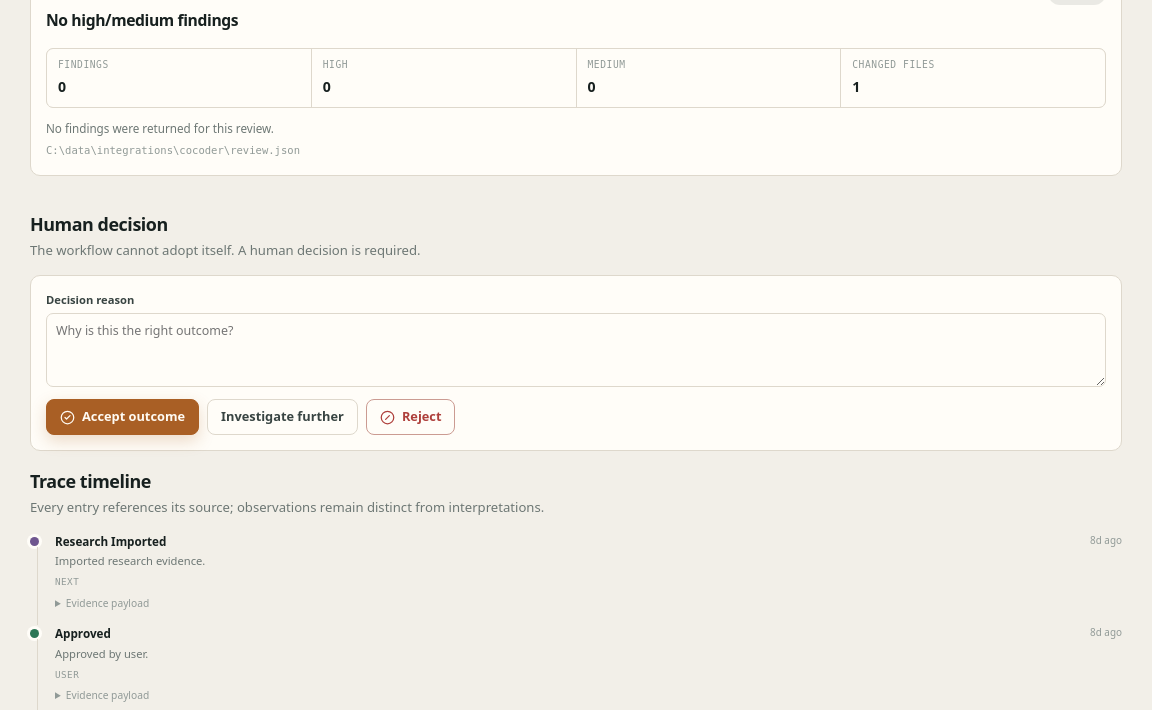
Test: WorkflowDetailPage › shows the full trace and records a human accept decision
The width and height of the screenshot is (1152, 710).
(page scrolled)
Expected: the heading "No high/medium findings" is shown, [46,11,238,30]
Expected: the text "Research Imported" is shown, [55,532,166,551]
Type "Proxy passed." into the text box labelled "Decision reason" at (576, 350), box [46,313,1106,387]
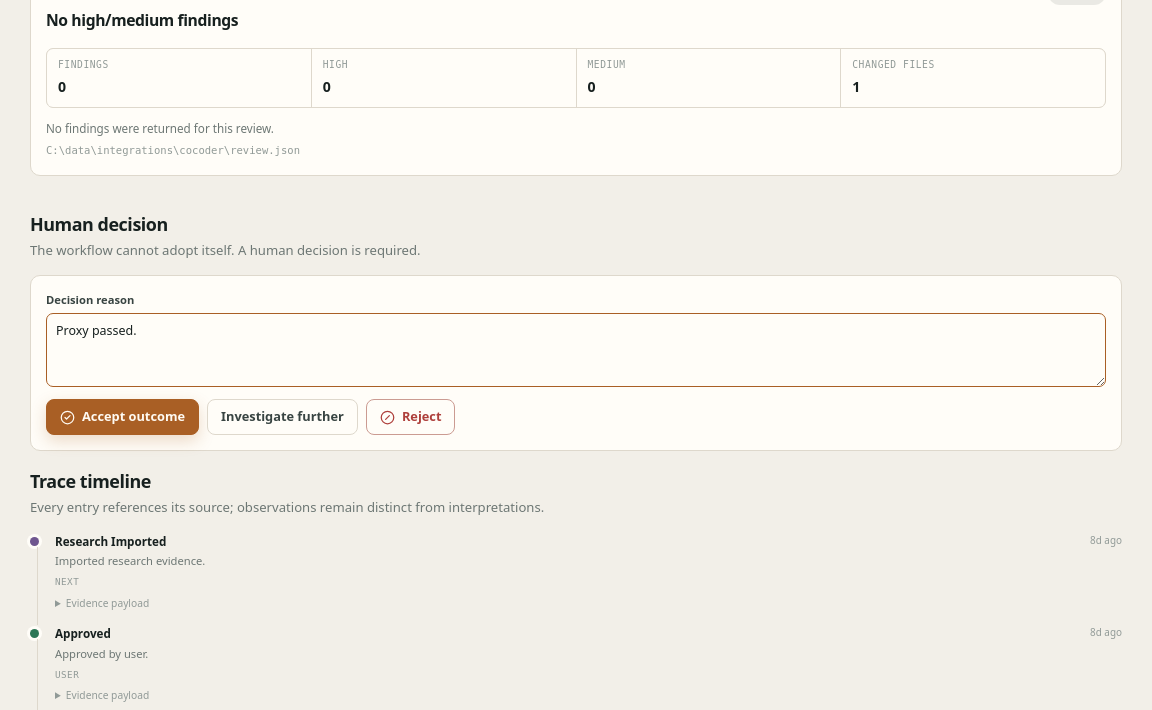
Click the button "Accept outcome" at (122, 417), box [46,399,199,435]
(page scrolled)
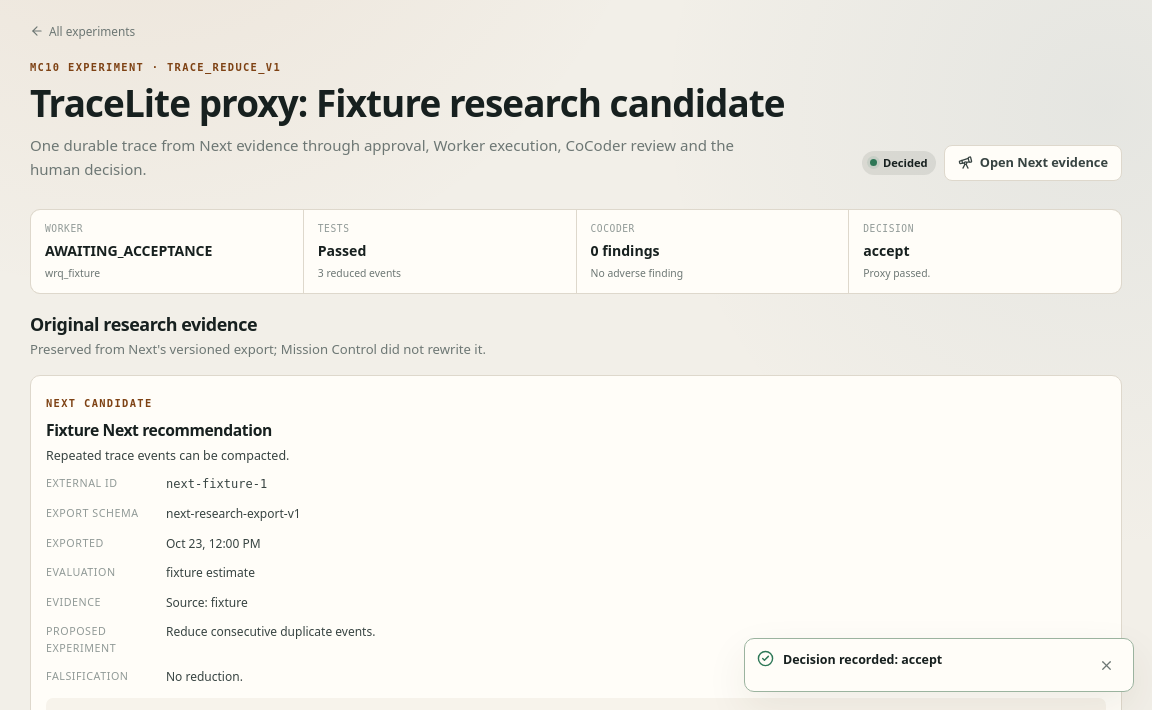
Expected: the text "Proxy passed." is shown, [863,266,930,280]
